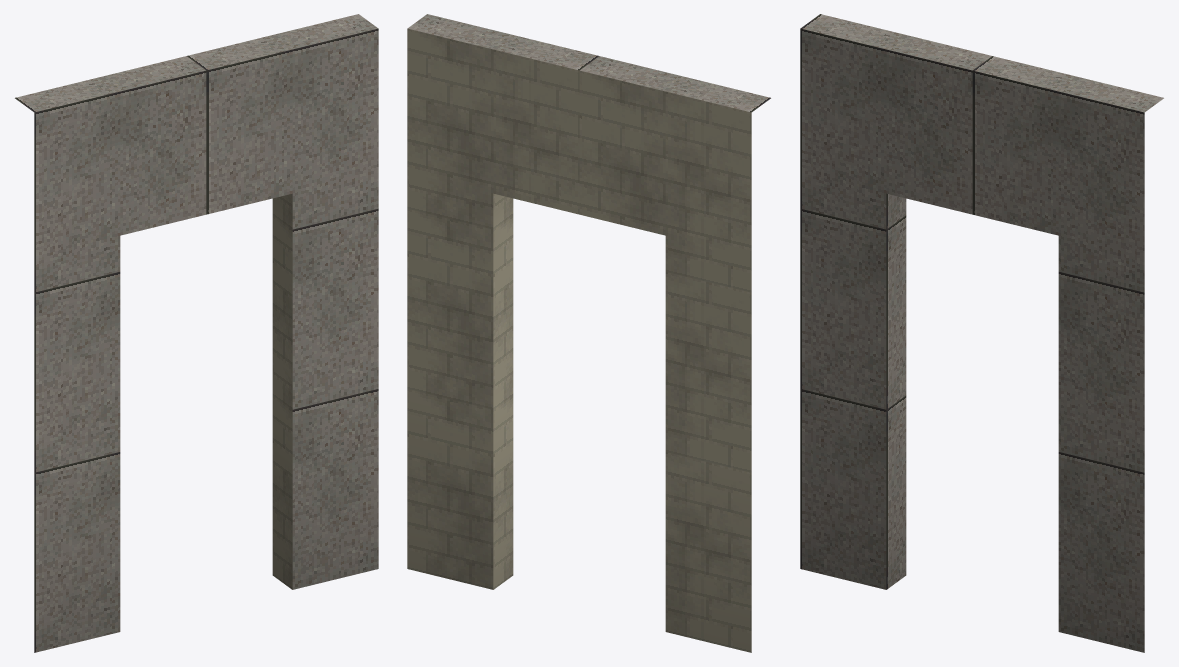
File: wall_doorway_panel.glb
The picture shows the model from 3 angles, left to right: view 1: azimuth 30°, elevation 25°; view 2: azimuth 150°, elevation 25°; view 3: azimuth 330°, elevation 25°; orthographic projection.
Parts seen in each view (by area): view 1: wall_doorway_panel; view 2: wall_doorway_panel; view 3: wall_doorway_panel.
Boxes of the visible parts, bbox=[...] form: wall_doorway_panel: bbox=[15, 14, 378, 652]; wall_doorway_panel: bbox=[407, 14, 770, 652]; wall_doorway_panel: bbox=[800, 14, 1163, 652].
Bounding box in the file's own units: 2 × 3 × 0.2.
Materials: 3 (3 with a texture image).
